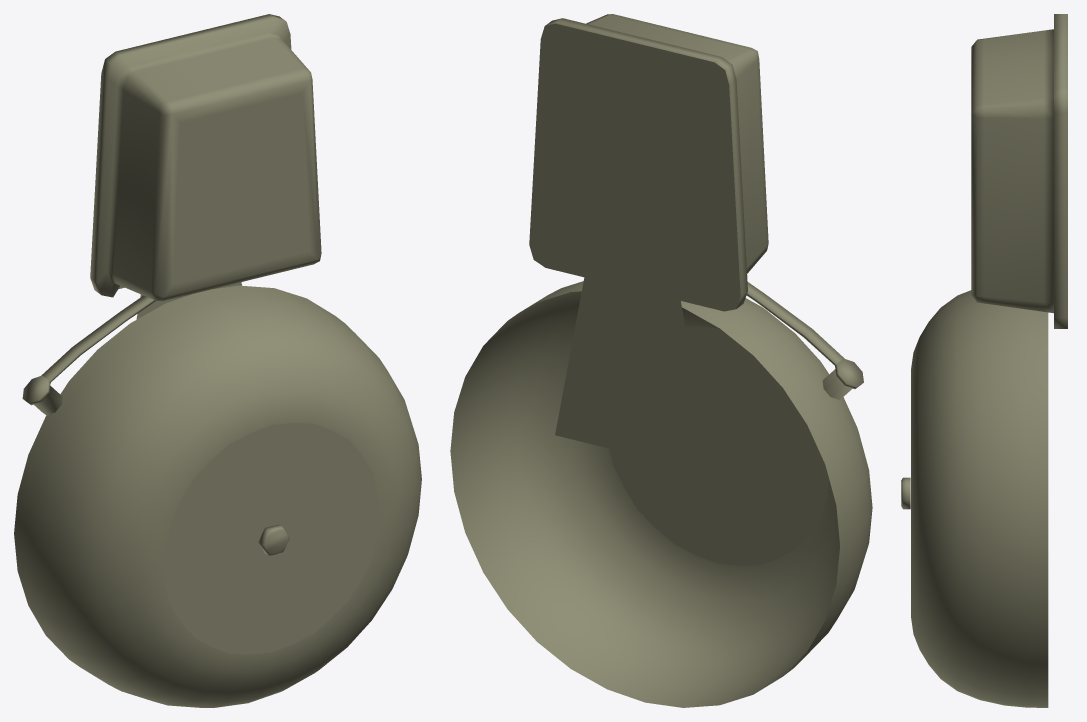
The picture shows the model from 3 angles, left to right: view 1: azimuth 30°, elevation 25°; view 2: azimuth 150°, elevation 25°; view 3: azimuth 270°, elevation 25°; orthographic projection. The views are drawn at different scales.
Visible parts, largest first — view 1: Bell; view 2: Bell; view 3: Bell.
Boxes of the visible parts, x1,y1,x2,y2 form: Bell: (14,14,421,707); Bell: (450,14,872,707); Bell: (901,14,1067,707).
Bounding box in the file's own units: 0.1576 × 0.2551 × 0.0621.
